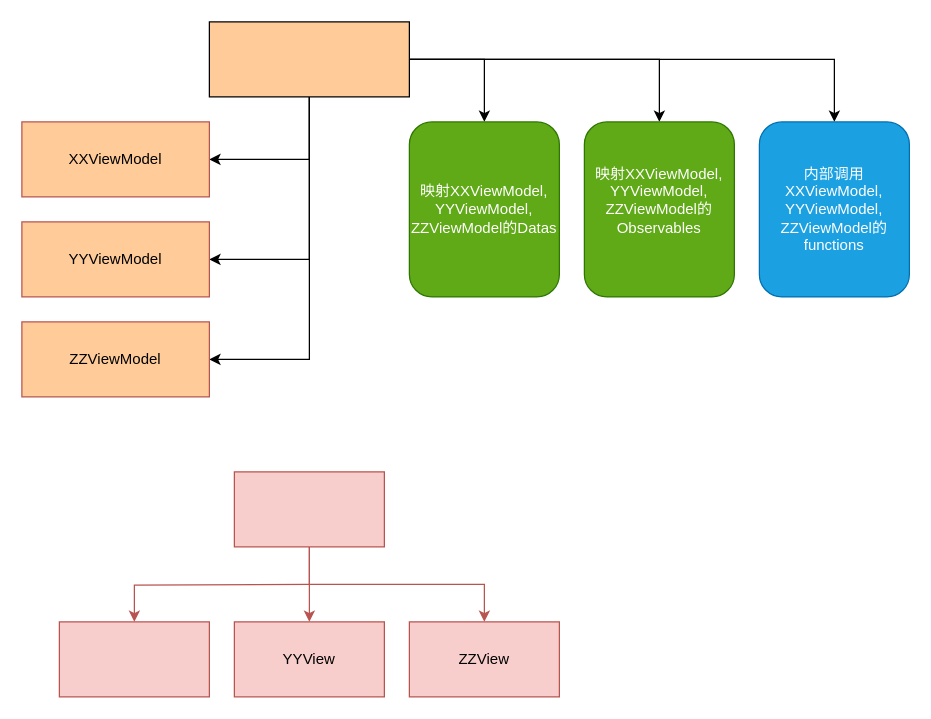
Image size: 931x719. Some labels were removed from this diagram. The box of each missing label's shape, as (x1, y1, x2, y2) in pixels:
ViewController: (233, 471, 384, 547)
ViewControllerViewModel: (208, 21, 409, 97)
XXView: (58, 621, 209, 697)
